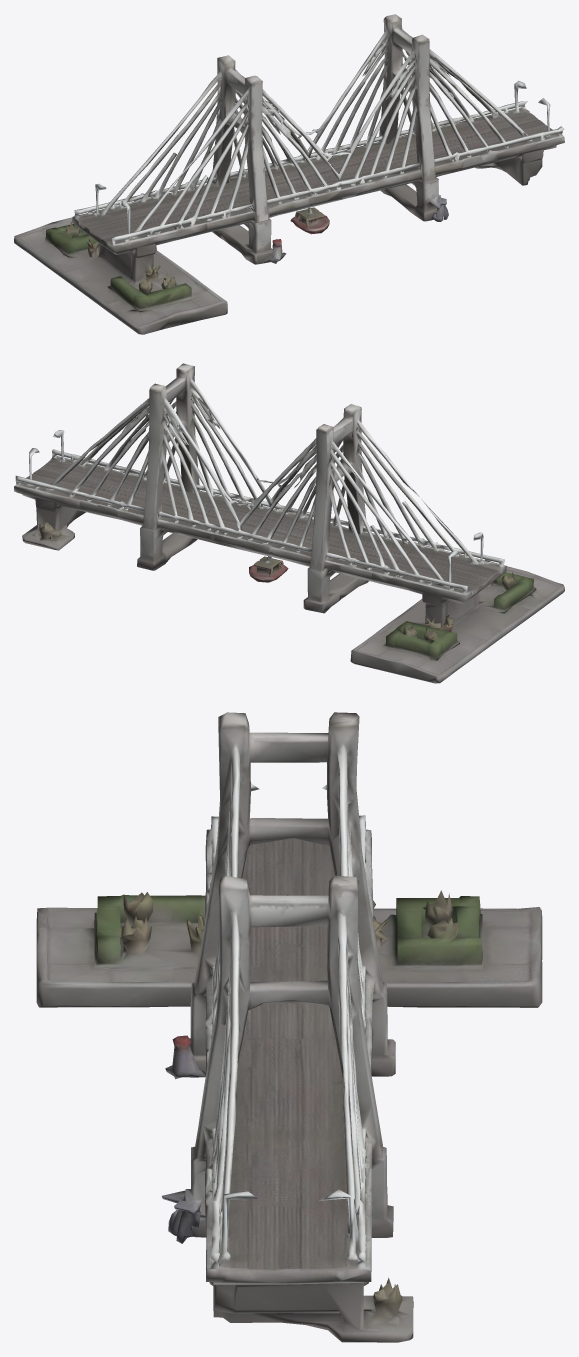
File: lagos_bridge.glb
3 renders of one model, top to bottom at view 1: azimuth 30°, elevation 25°; view 2: azimuth 150°, elevation 25°; view 3: azimuth 270°, elevation 25°, orthographic. The views are drawn at different scales.
Parts seen in each view (by area): view 1: tripo_node_921ce812-4066-4977-82d1-44859c0ef10e; view 2: tripo_node_921ce812-4066-4977-82d1-44859c0ef10e; view 3: tripo_node_921ce812-4066-4977-82d1-44859c0ef10e.
Part boxes in pixels (box(x1,y1,x2,y2)): tripo_node_921ce812-4066-4977-82d1-44859c0ef10e: box(14, 14, 564, 334); tripo_node_921ce812-4066-4977-82d1-44859c0ef10e: box(14, 363, 564, 683); tripo_node_921ce812-4066-4977-82d1-44859c0ef10e: box(36, 712, 542, 1342).
Size of the model in its own units: 1 by 0.3705 by 0.4655.
Materials: 1 (1 with a texture image).
